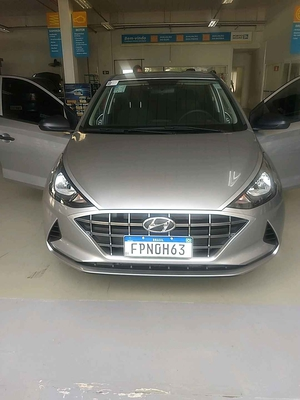Frontal Veiculo: (40, 76, 285, 280)
